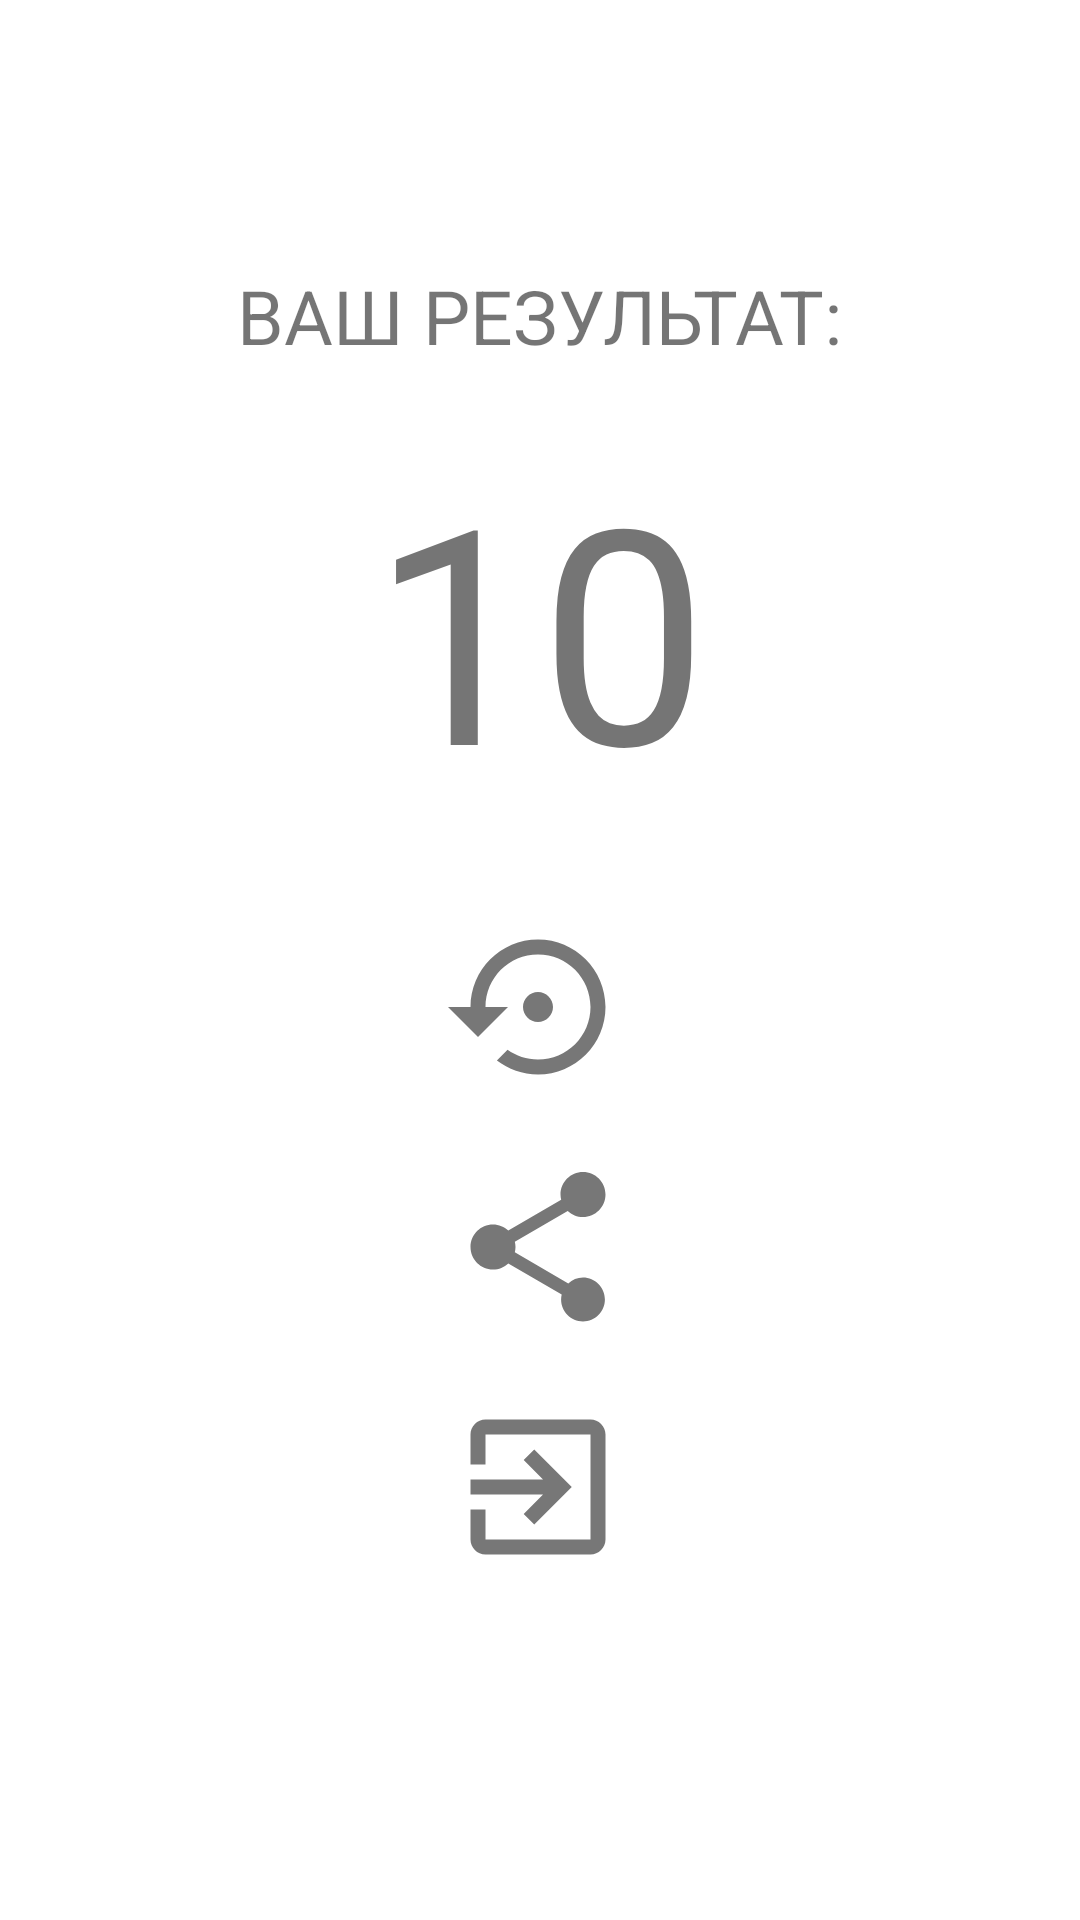

Icon bounding boxes for this 1080px x 1920px phone screenshot, format bbox=(x1, y1, x2, y2):
Close app: bbox=(470, 1419, 606, 1555)
Restart quiz: bbox=(448, 939, 606, 1075)
Share results: bbox=(470, 1172, 606, 1322)
